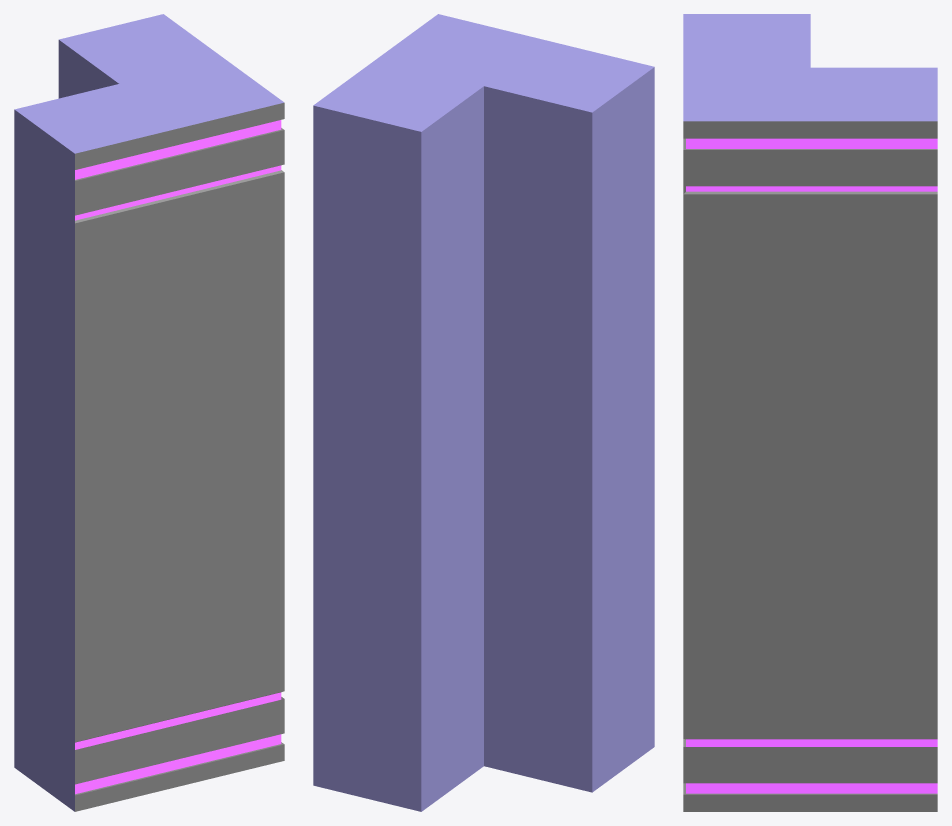
File: WallFlatCorner.FBX
The picture shows the model from 3 angles, left to right: view 1: azimuth 30°, elevation 25°; view 2: azimuth 150°, elevation 25°; view 3: azimuth 270°, elevation 25°; orthographic projection. The views are drawn at different scales.
Visible parts, largest first — view 1: WallFlatCorner; view 2: WallFlatCorner; view 3: WallFlatCorner.
Part boxes in pixels (x1,y1,x2,y2): WallFlatCorner: (14, 14, 284, 811); WallFlatCorner: (313, 14, 654, 811); WallFlatCorner: (683, 14, 937, 811).
Bounding box in the file's own units: 100 × 100 × 300.
